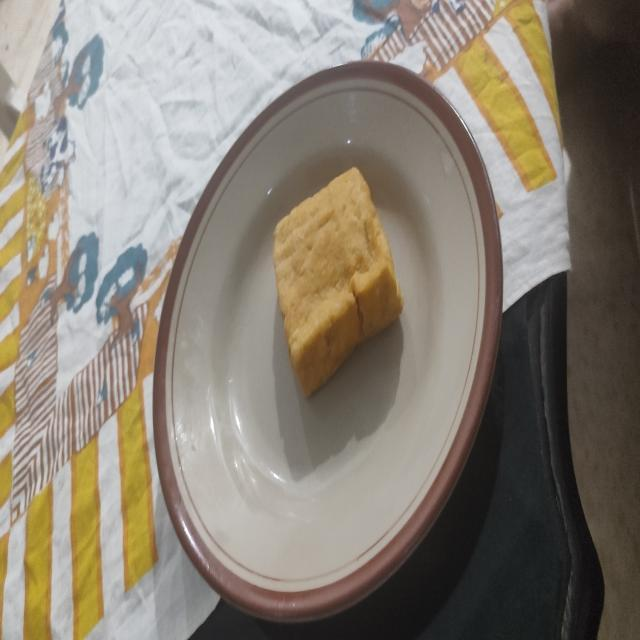tahu_goreng: (273, 167, 403, 396)
